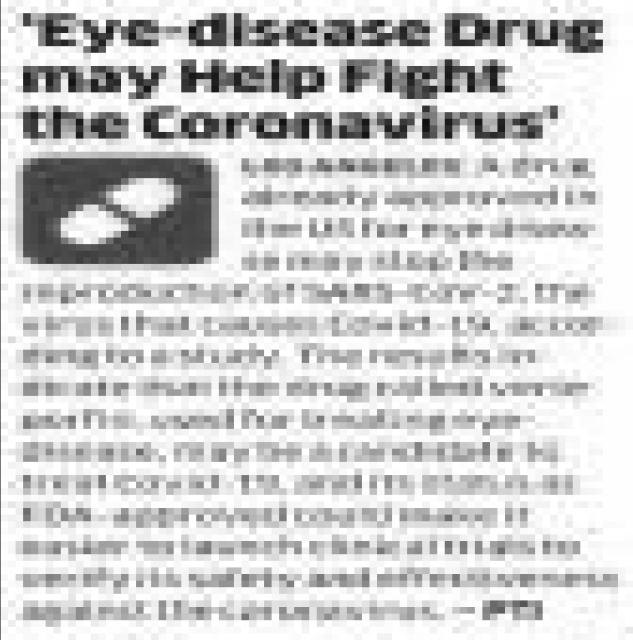paper: (1, 0, 633, 640)
